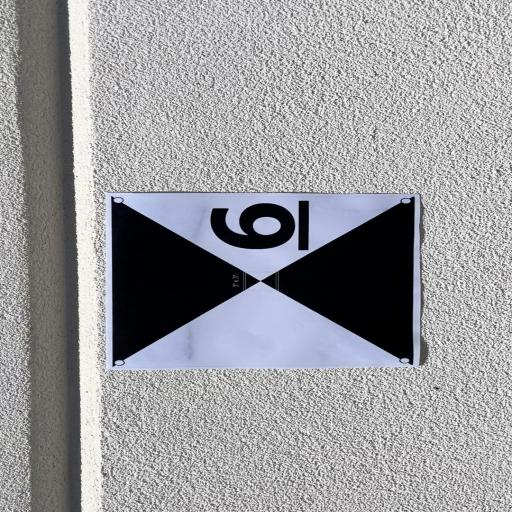target6: (105, 191, 422, 372)
